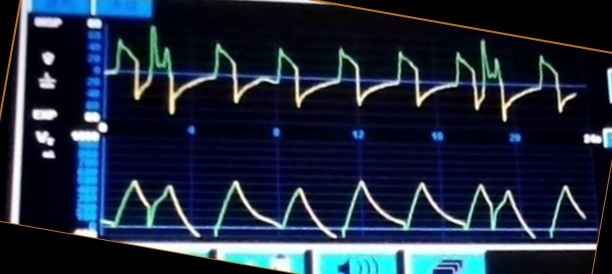Double_Triggering Flow: (109, 20, 575, 123)
Double_Triggering Volume: (105, 160, 588, 238)
